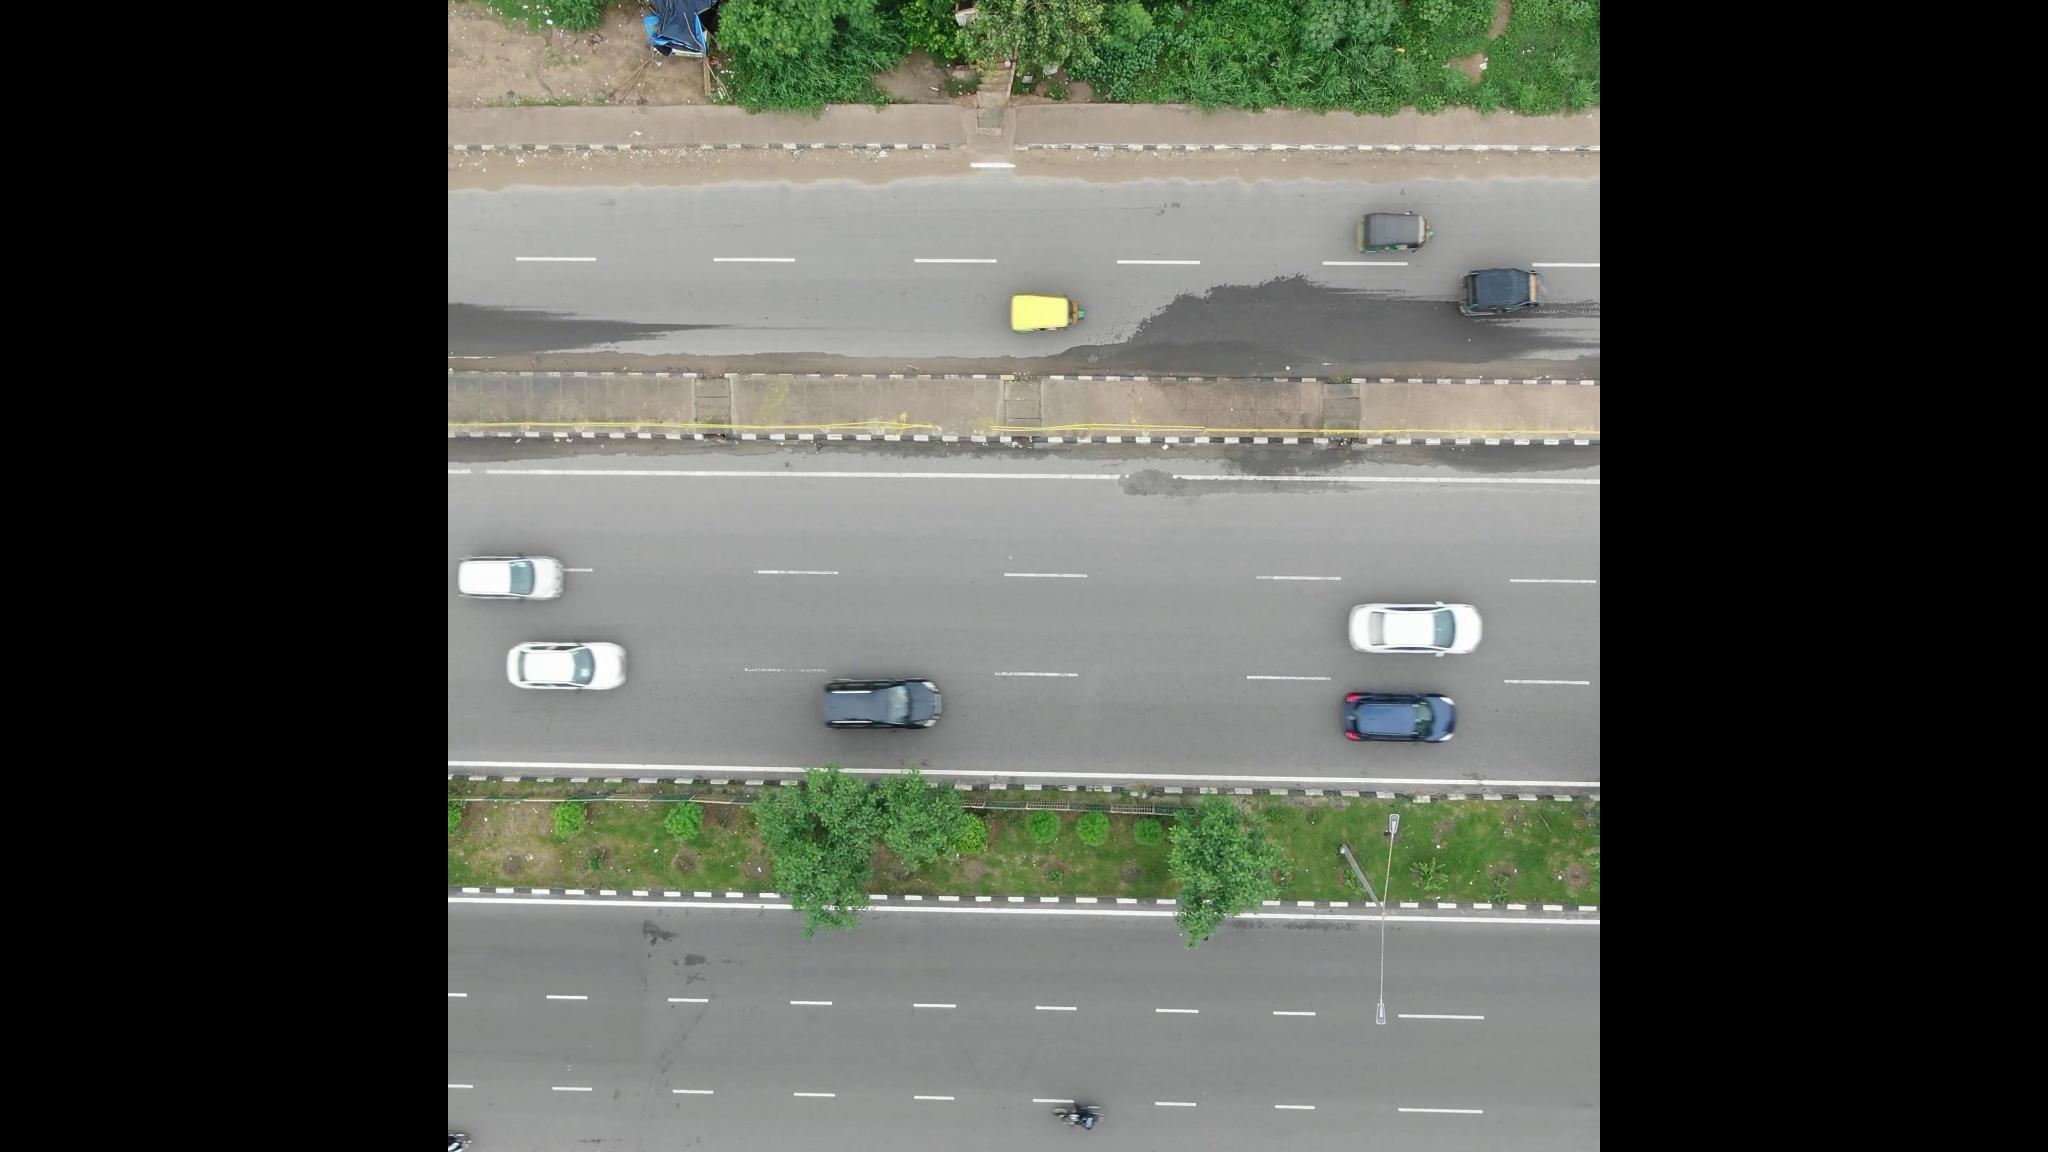Muddy_road: (819, 145, 964, 191), (682, 143, 814, 193), (572, 145, 677, 191), (449, 148, 567, 188), (1310, 148, 1426, 187), (1114, 148, 1220, 187), (1225, 148, 1304, 188), (1431, 148, 1513, 186), (1516, 148, 1596, 184), (1018, 148, 1106, 176)
